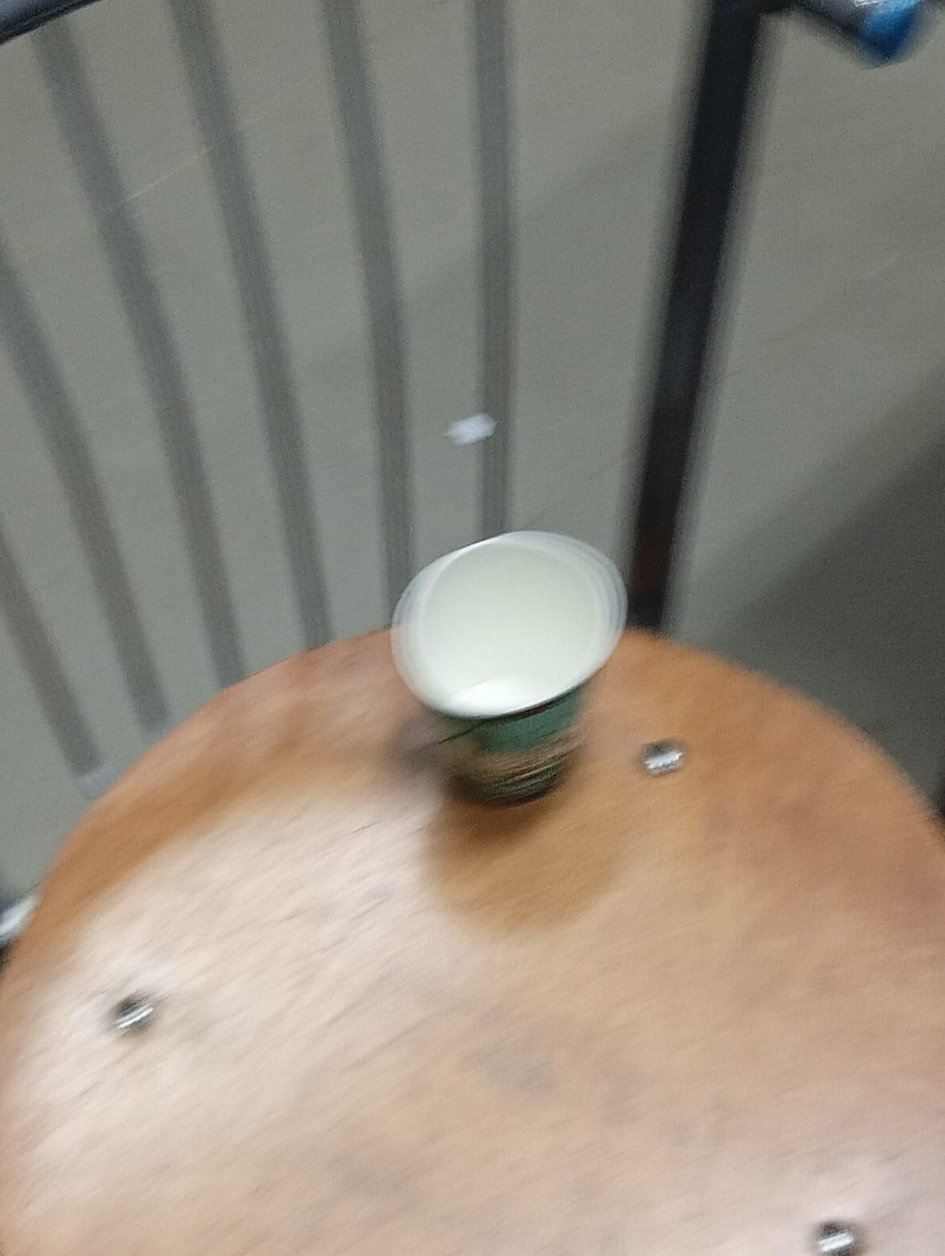cup: (392, 531, 625, 800), (415, 542, 611, 710)
